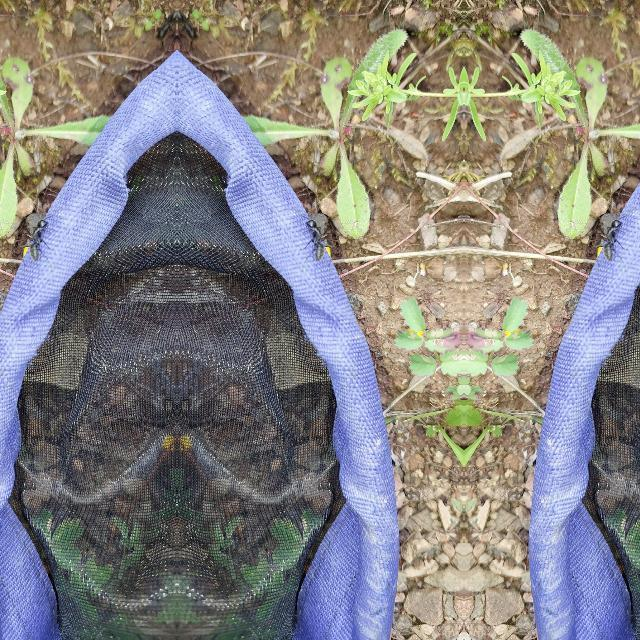Camponotus: (297, 210, 331, 266), (21, 210, 55, 266), (596, 210, 630, 266)
